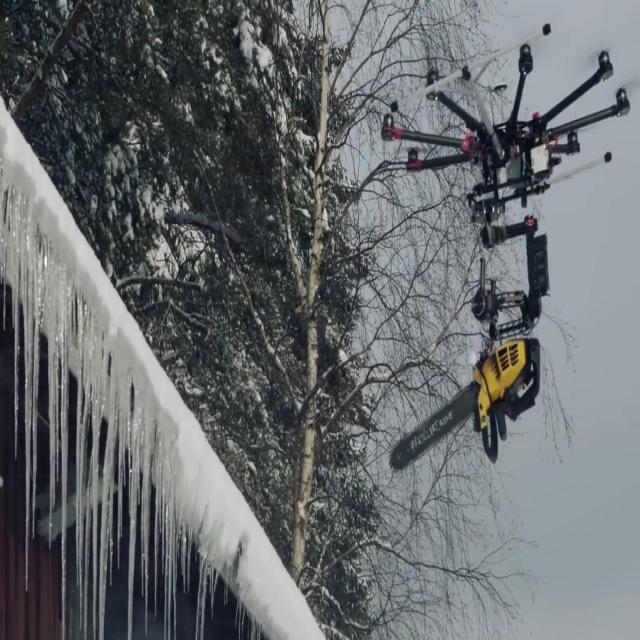UAV: (382, 24, 630, 223)
